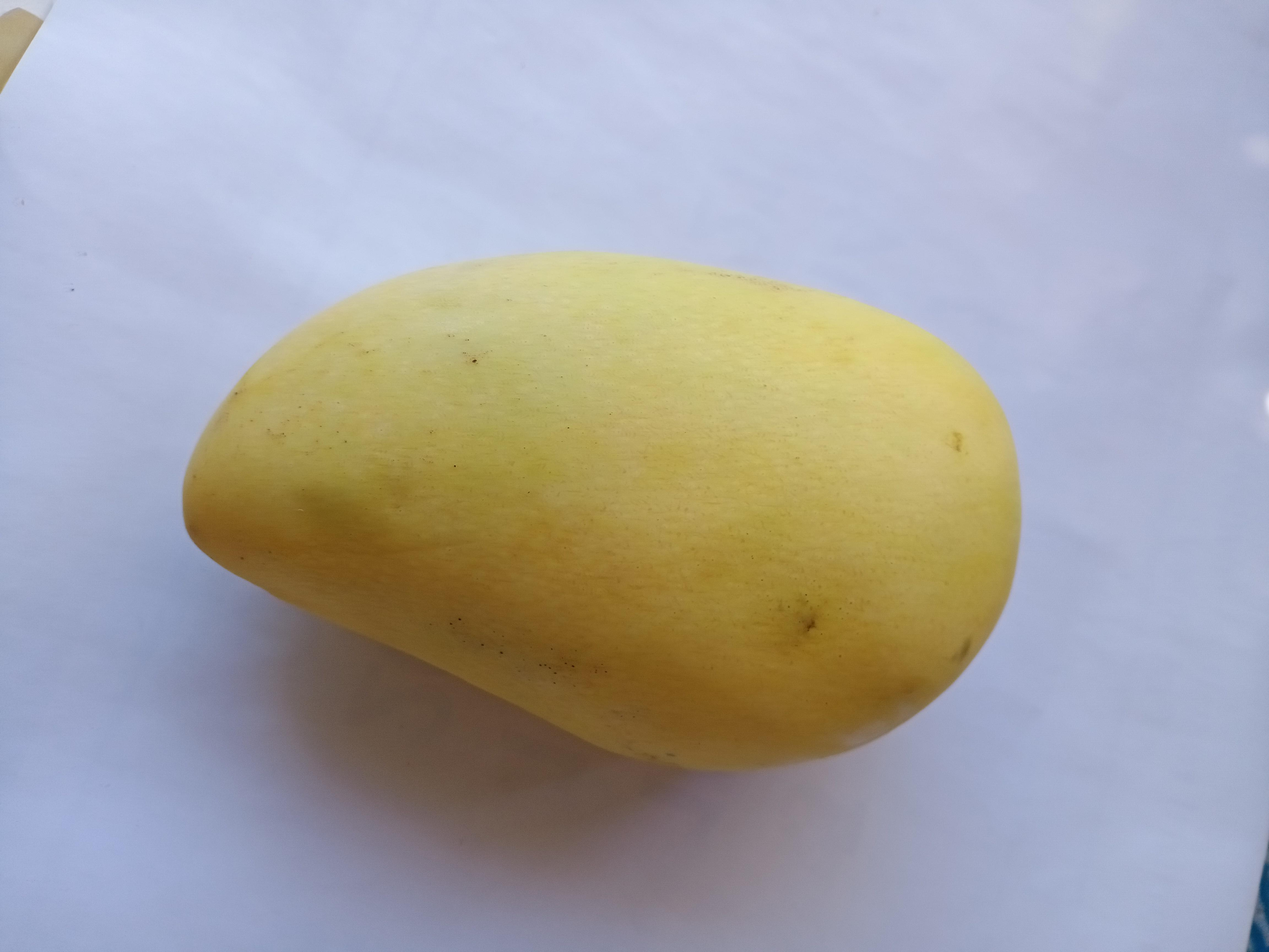Mango Ripe: (135, 223, 1063, 826)
